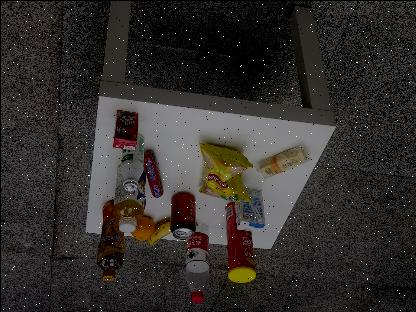Can: (169, 190, 195, 240)
Others: (221, 202, 257, 284), (232, 187, 270, 234), (112, 107, 140, 153)
Plastic Bottle: (184, 222, 216, 306)
